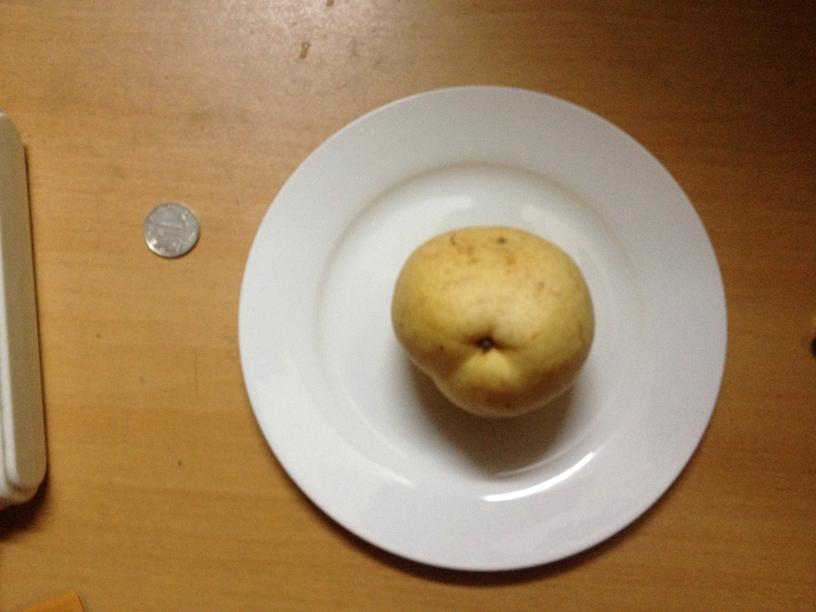coin: (143, 202, 200, 257)
pear: (391, 230, 593, 419)
